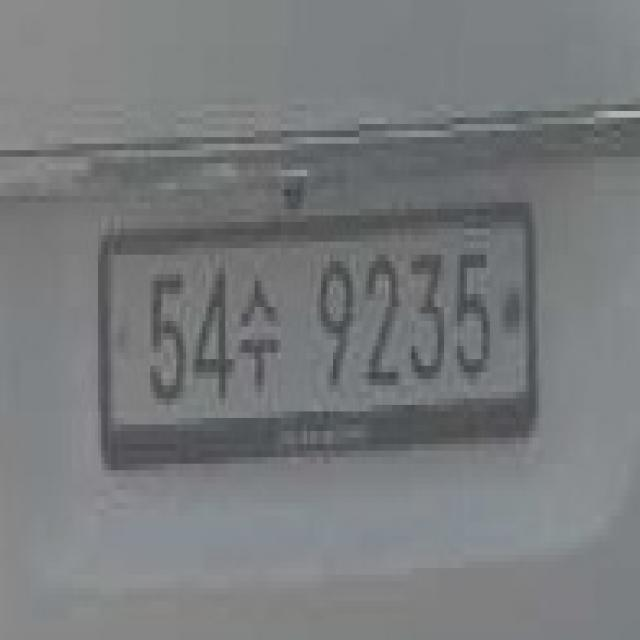2: (366, 242, 408, 392)
3: (405, 235, 454, 392)
4: (190, 242, 238, 412)
5: (138, 255, 190, 418), (448, 235, 500, 398)
9: (314, 248, 359, 398)
license_plate: (104, 202, 539, 503)
su: (229, 255, 284, 398)
